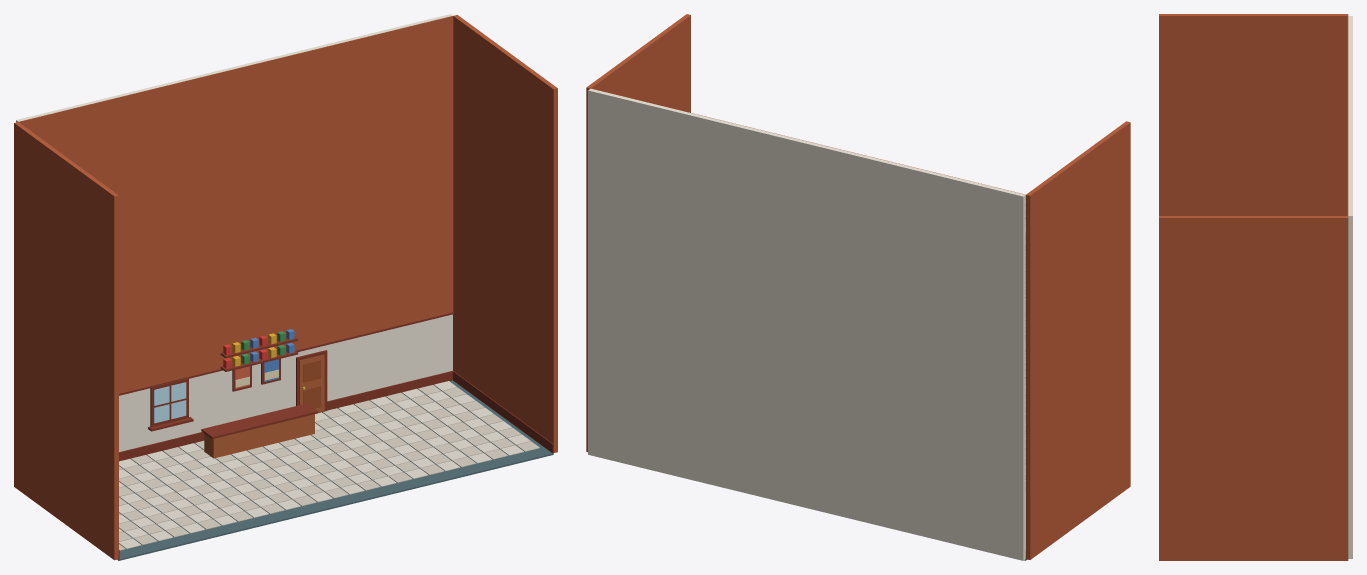
Rendered from room_classico_shop.glb.
3 renders of one model, left to right at view 1: azimuth 30°, elevation 25°; view 2: azimuth 150°, elevation 25°; view 3: azimuth 270°, elevation 25°, orthographic. The views are drawn at different scales.
Parts seen in each view (by area): view 1: room; view 2: room; view 3: room.
Boxes of the visible parts, x1,y1,x2,y2 form: room: (14, 14, 557, 560); room: (586, 14, 1130, 560); room: (1159, 14, 1352, 560).
Size of the model in its own units: 30.6 by 24.11 by 12.3.
